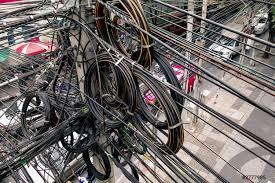wires: (35, 0, 194, 182)
